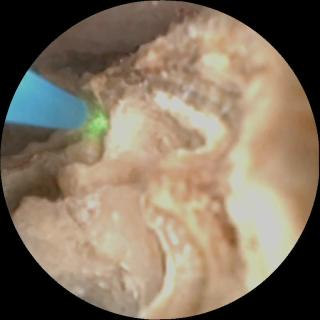fiber: (7, 72, 87, 128)
laser: (88, 113, 105, 132)
stone: (4, 14, 313, 313)
